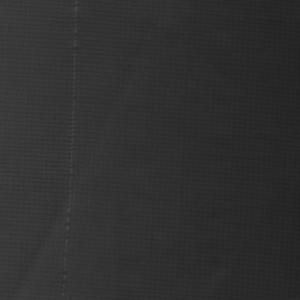Wrinkle: (1, 1, 181, 300)
